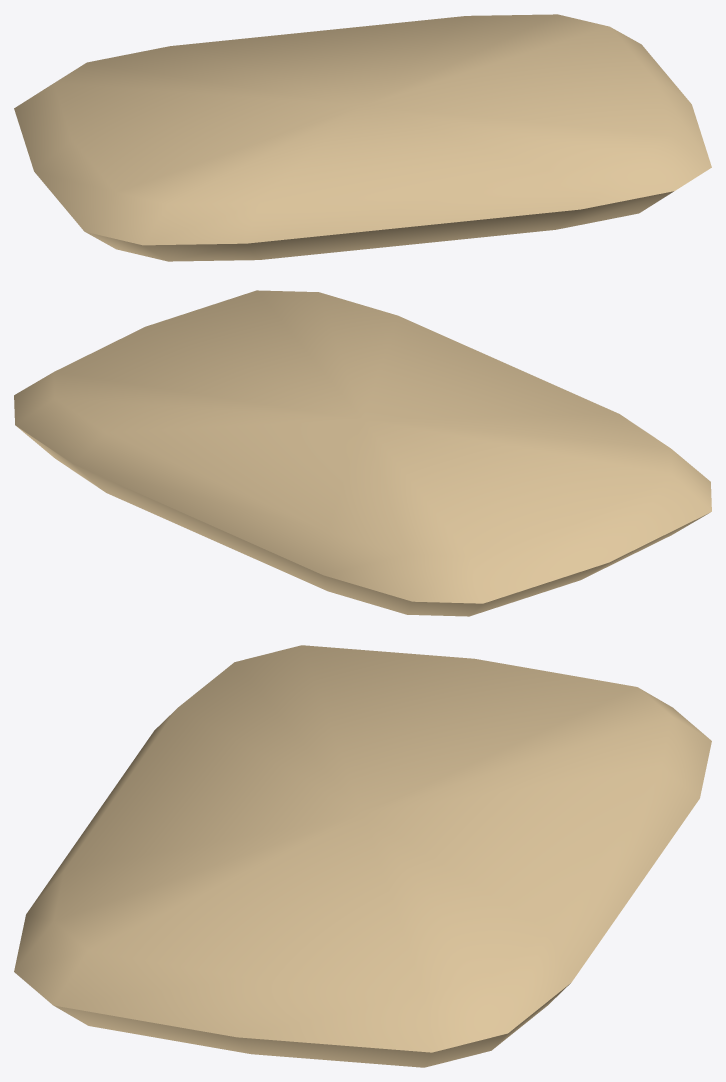
The model's file is pisante.glb.
The picture shows the model from 3 angles, top to bottom: view 1: azimuth 30°, elevation 25°; view 2: azimuth 150°, elevation 25°; view 3: azimuth 270°, elevation 25°; orthographic projection. The views are drawn at different scales.
Parts seen in each view (by area): view 1: pisante; view 2: pisante; view 3: pisante.
Part boxes in pixels (x1=…): pisante: x1=14, y1=14, x2=711, y2=261; pisante: x1=14, y1=290, x2=711, y2=616; pisante: x1=14, y1=645, x2=711, y2=1067.
Size of the model in its own units: 0.4963 by 0.05 by 0.3731.
1 material, 1 textured.
